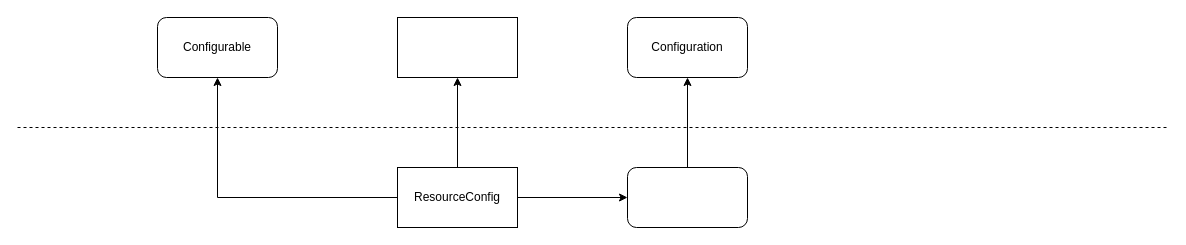
Image size: 1186x245. Some labels were removed from this diagram. The shapes that lost their labels are listed below. From the top down, each one's centre as x and y in pixels, then its label:
At (457,47): "Application".
At (687,197): "ServerConfig".
